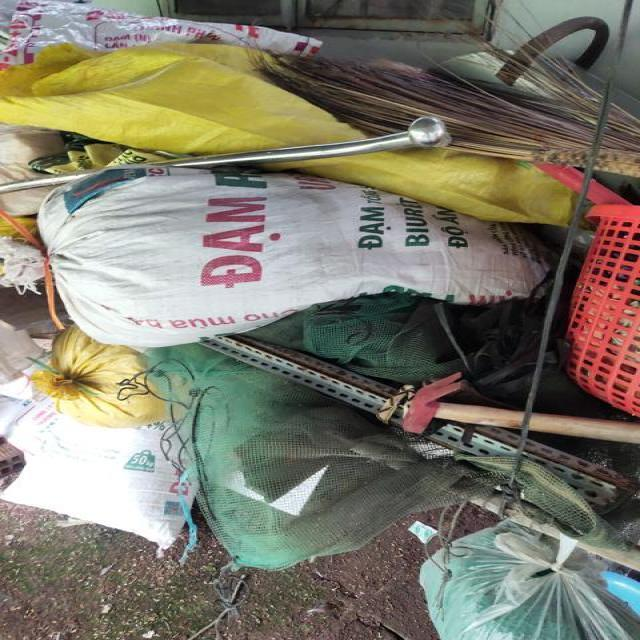gunny_bag: (39, 167, 548, 348)
